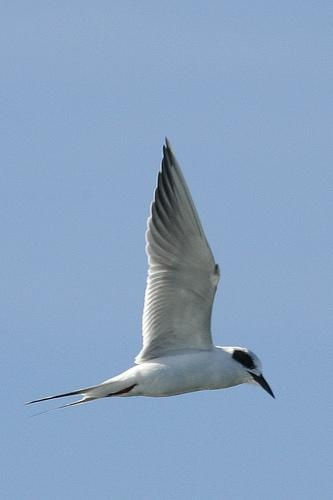bird: (22, 137, 276, 419)
